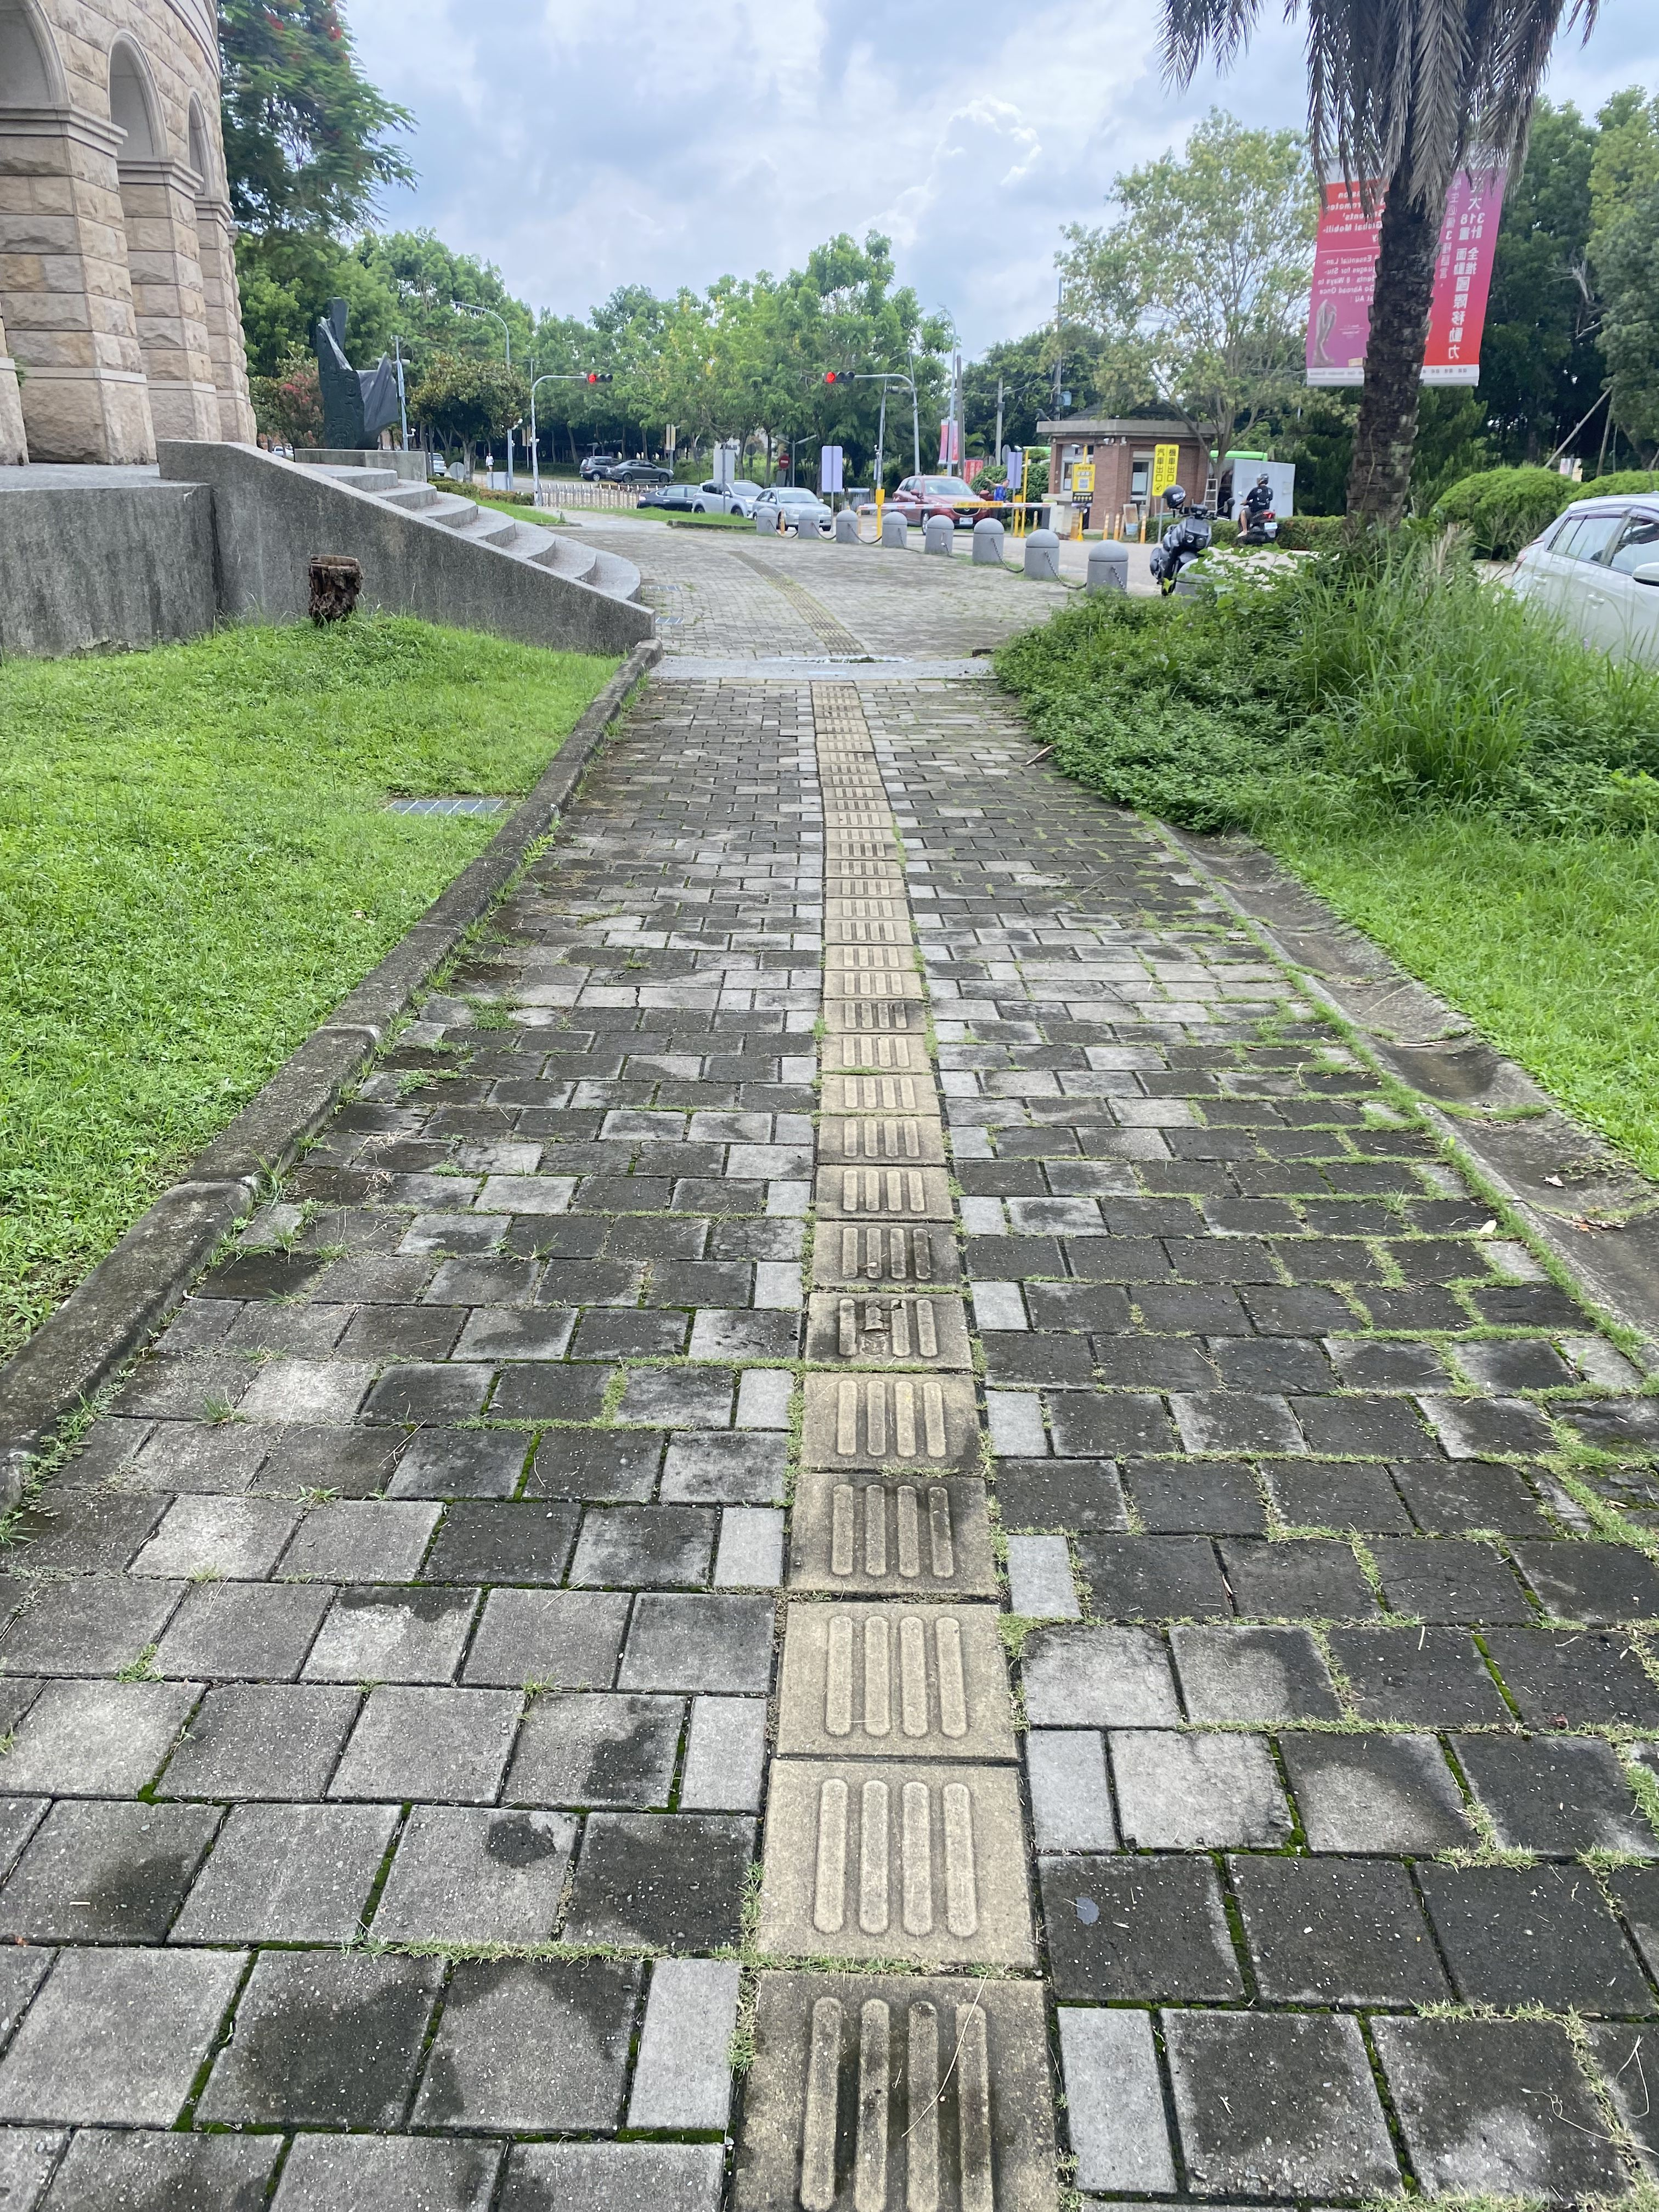0: (0, 786, 1659, 2212)
sidewalk: (538, 491, 1131, 986)
